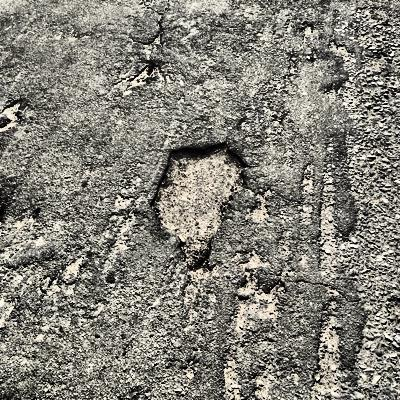pothole: (147, 139, 253, 268), (0, 99, 24, 133), (129, 62, 156, 87)
